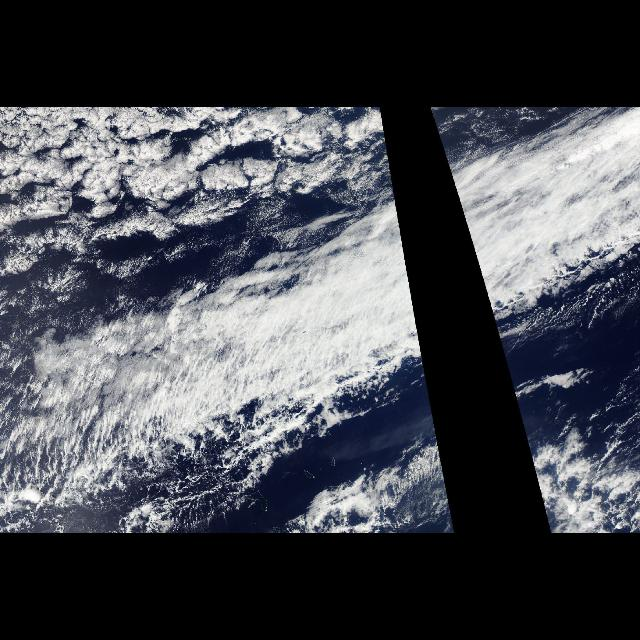Flower: (2, 111, 340, 215)
